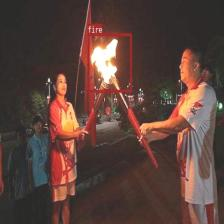fire: (88, 33, 132, 92)
